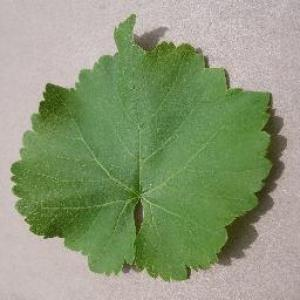Folha: (9, 13, 273, 282)
